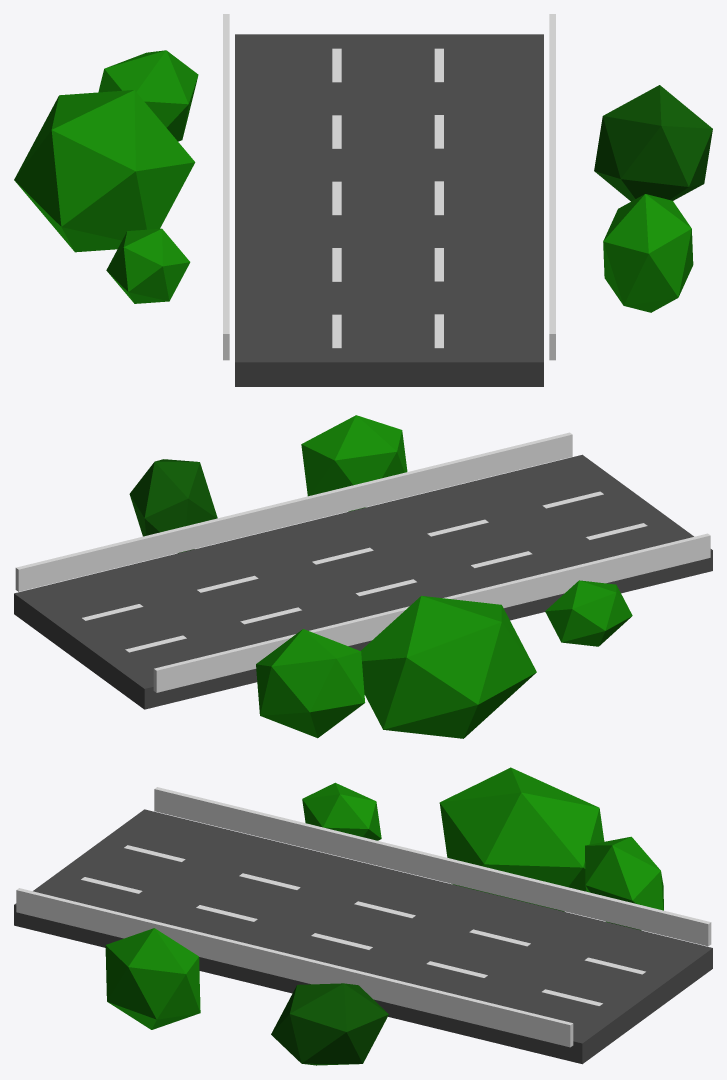
Rendered from highway_03_1.fbx.
3 renders of one model, top to bottom at view 1: azimuth 30°, elevation 25°; view 2: azimuth 150°, elevation 25°; view 3: azimuth 270°, elevation 25°, orthographic. The views are drawn at different scales.
Parts seen in each view (by area): view 1: highway03.002, bush9, bush11, bush12, leitPlanks.002, bush10, bush8, laneMarkingsLeft.002, laneMarkingsRight.002; view 2: highway03.002, leitPlanks.002, bush9, bush10, bush12, bush11, bush8, laneMarkingsRight.002, laneMarkingsLeft.002; view 3: highway03.002, leitPlanks.002, bush9, bush12, bush11, bush10, bush8, laneMarkingsLeft.002, laneMarkingsRight.002.
Boxes of the visible parts, left/top/right/bottom form: highway03.002: left=235, top=34, right=543, bottom=386; bush9: left=14, top=90, right=195, bottom=252; bush11: left=594, top=85, right=712, bottom=201; bush12: left=603, top=194, right=693, bottom=312; leitPlanks.002: left=223, top=14, right=555, bottom=360; bush10: left=98, top=50, right=198, bottom=141; bush8: left=106, top=228, right=190, bottom=303; laneMarkingsLeft.002: left=332, top=48, right=341, bottom=348; laneMarkingsRight.002: left=434, top=48, right=443, bottom=348; highway03.002: left=14, top=454, right=712, bottom=709; leitPlanks.002: left=15, top=432, right=710, bottom=692; bush9: left=361, top=596, right=536, bottom=738; bush10: left=256, top=629, right=365, bottom=738; bush12: left=301, top=415, right=407, bottom=511; bush11: left=129, top=459, right=217, bottom=553; bush8: left=545, top=580, right=632, bottom=646; laneMarkingsRight.002: left=82, top=491, right=603, bottom=620; laneMarkingsLeft.002: left=125, top=523, right=647, bottom=652; highway03.002: left=14, top=809, right=712, bottom=1064; leitPlanks.002: left=16, top=787, right=711, bottom=1047; bush9: left=439, top=767, right=604, bottom=911; bush12: left=105, top=928, right=200, bottom=1029; bush11: left=271, top=983, right=388, bottom=1065; bush10: left=585, top=836, right=663, bottom=930; bush8: left=302, top=782, right=381, bottom=840; laneMarkingsLeft.002: left=124, top=845, right=645, bottom=974; laneMarkingsRight.002: left=81, top=877, right=602, bottom=1006.
Size of the model in its own units: 84.82 by 21.35 by 105.
